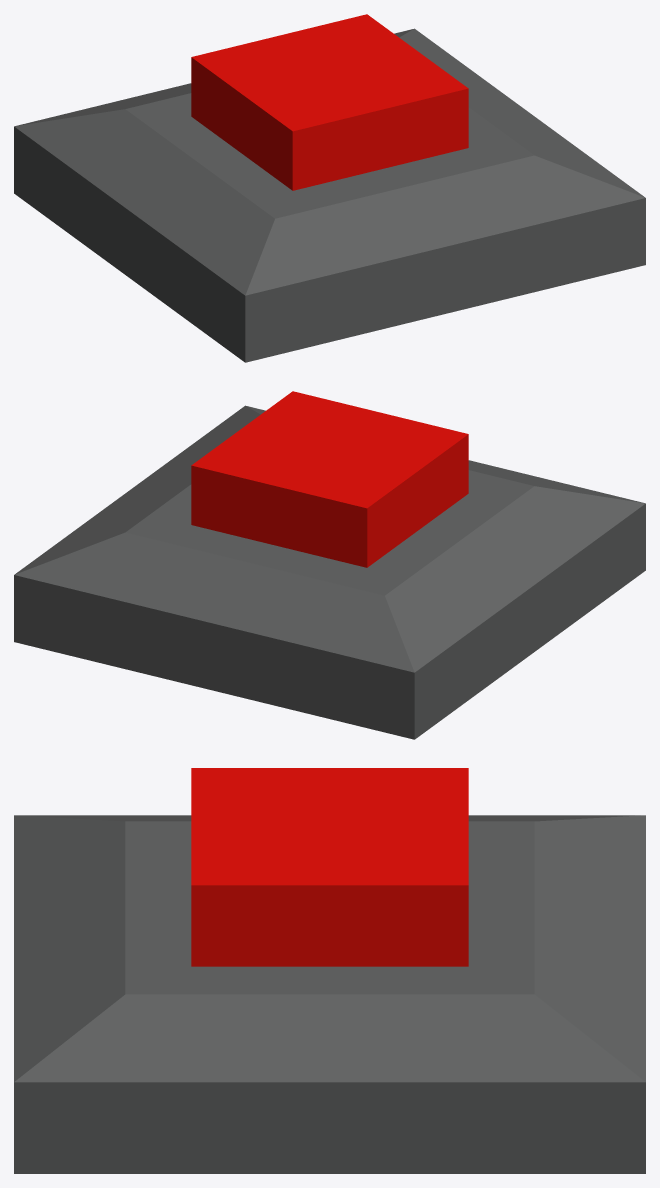
File: tombol.glb
3 views of the same model, one above another, from view 1: azimuth 30°, elevation 25°; view 2: azimuth 150°, elevation 25°; view 3: azimuth 270°, elevation 25° (orthographic). The views are drawn at different scales.
Parts seen in each view (by area): view 1: Cube; view 2: Cube; view 3: Cube.
Part boxes in pixels (bbox=[...]): Cube: bbox=[14, 14, 645, 362]; Cube: bbox=[14, 391, 645, 739]; Cube: bbox=[14, 768, 645, 1173].
Size of the model in its own units: 1 by 0.3731 by 1.
